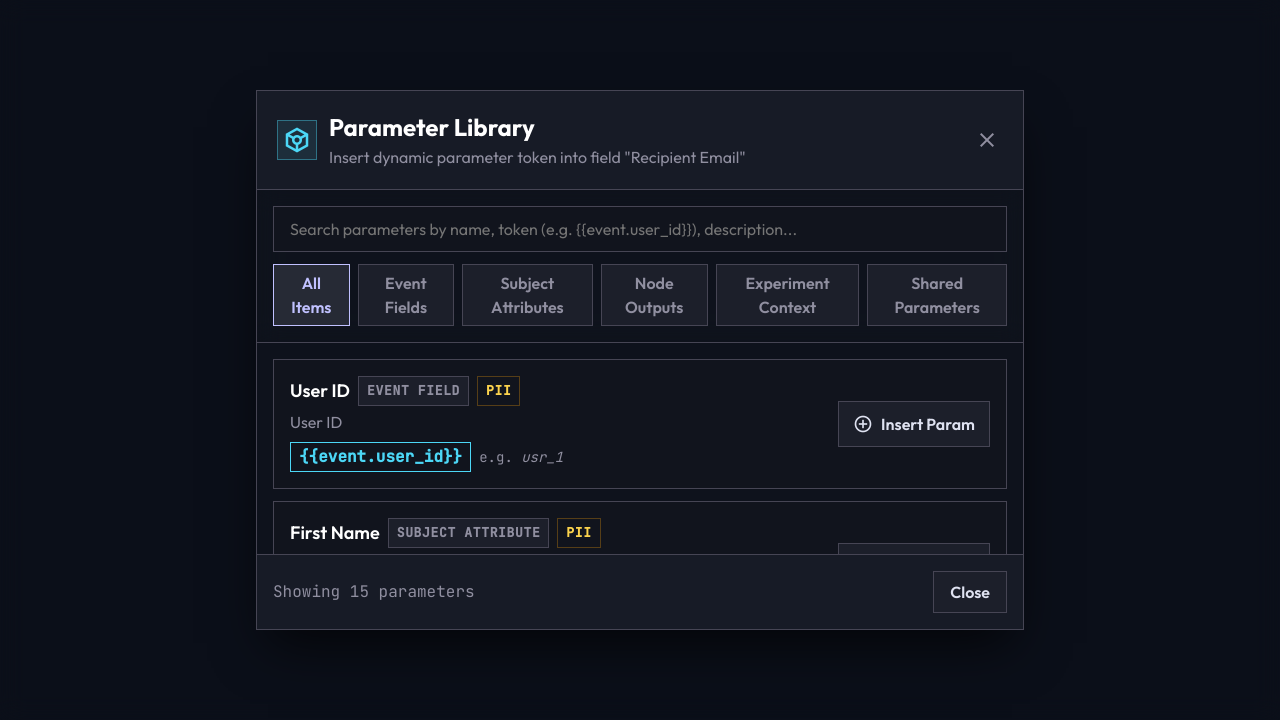
Test: ParameterModal Component › filters parameters list in real-time when search query is entered
Replace the text in the field with test id "parameter-search-input" with "first_name". click: (640, 229)
box: [273,206,1007,252]
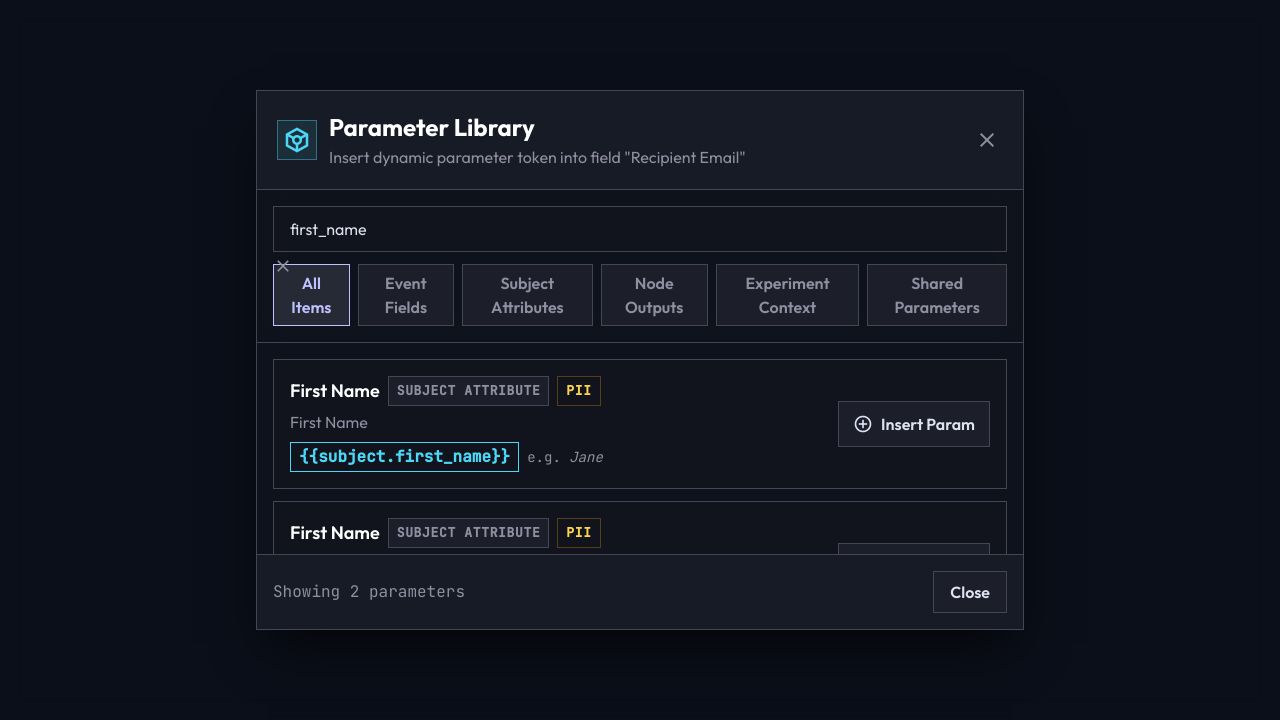
Expected: the element with test id "param-item-first_name" is shown, [273,359,1007,489]
Result: the element with test id "param-item-user_id" is gone
